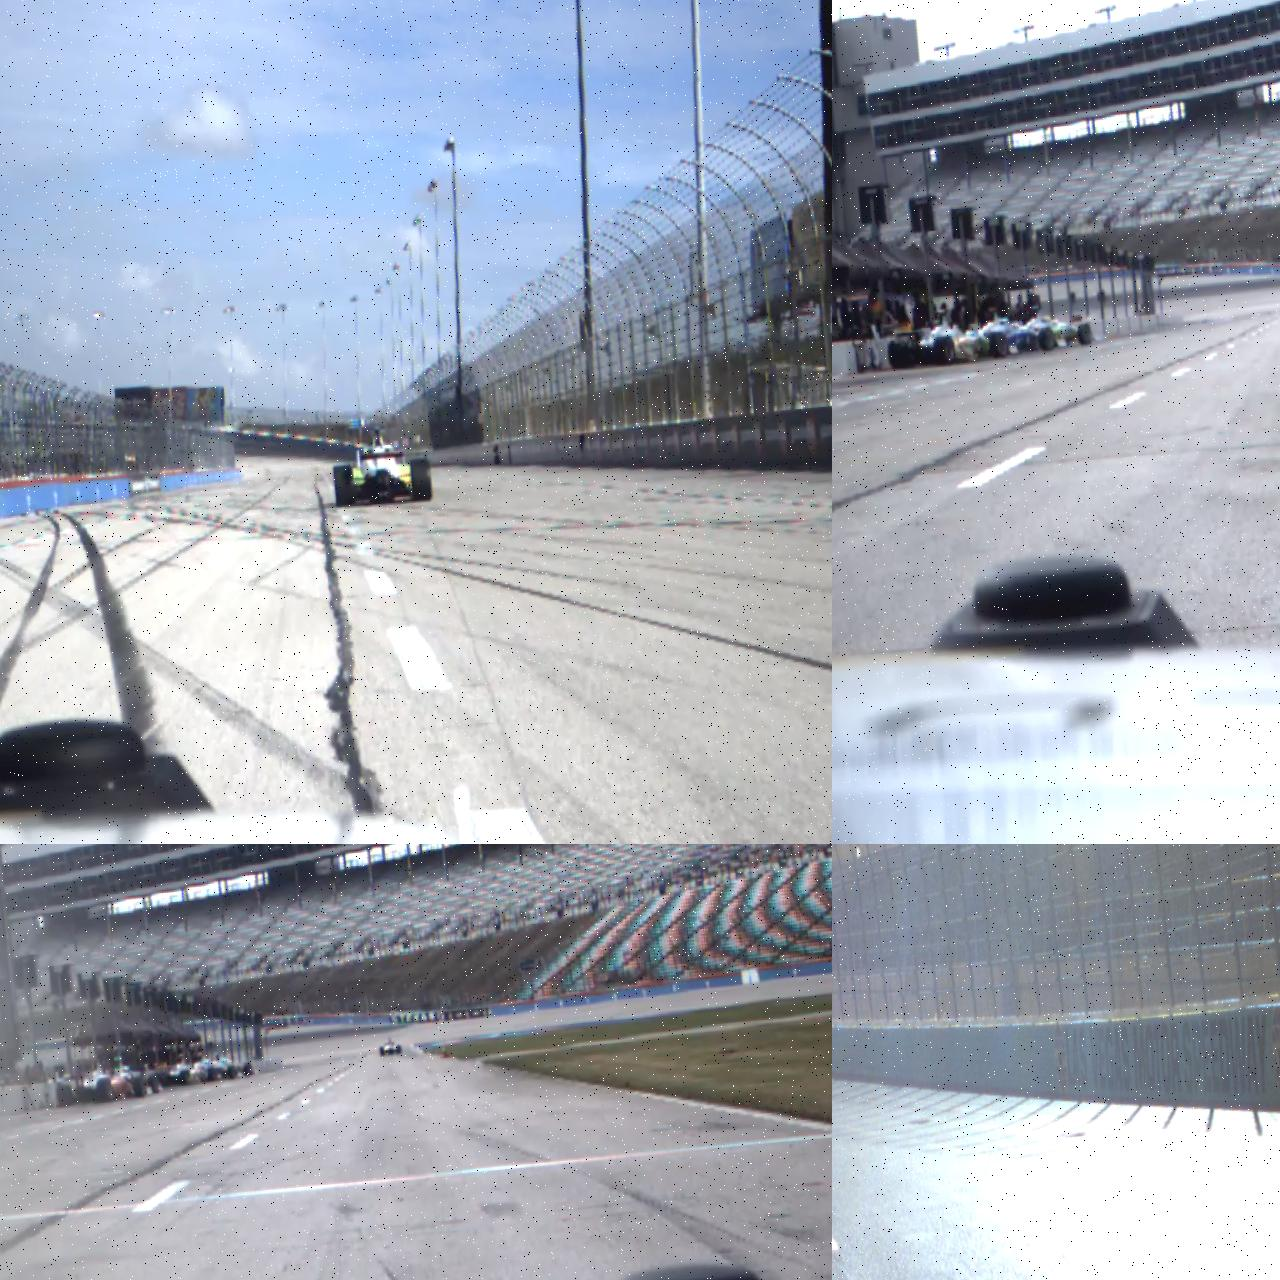AV: (329, 420, 434, 511), (884, 299, 1009, 372), (379, 1036, 402, 1056)
Wheel: (409, 457, 433, 503), (333, 464, 356, 508), (933, 335, 956, 368), (887, 340, 911, 370), (988, 332, 1008, 360), (1039, 327, 1056, 353), (96, 1078, 114, 1102), (1077, 324, 1092, 346), (57, 1083, 73, 1105), (134, 1077, 147, 1097), (148, 1075, 159, 1094), (227, 1065, 238, 1080), (243, 1062, 252, 1077), (207, 1068, 216, 1082), (396, 1046, 402, 1054), (380, 1047, 384, 1055)
